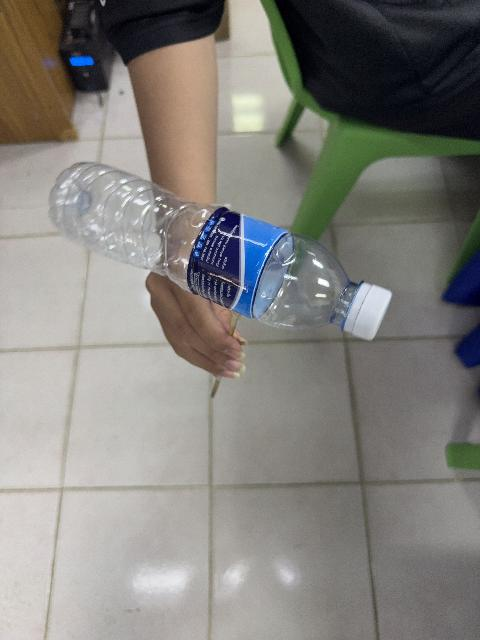bottle: (50, 163, 391, 339)
